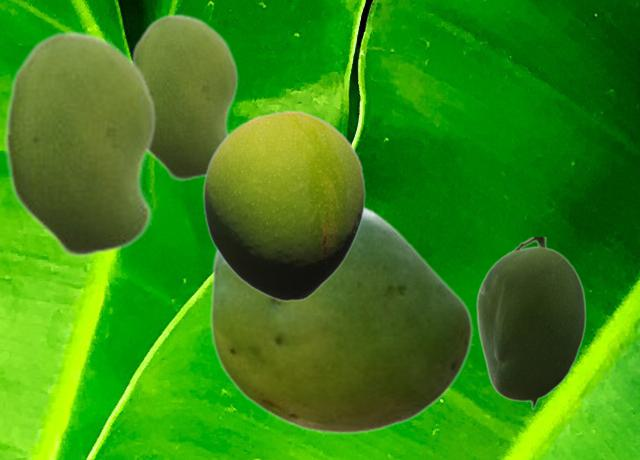green_mango: (209, 204, 472, 434), (4, 30, 156, 258), (202, 110, 365, 301), (475, 237, 585, 409), (130, 13, 238, 181)
